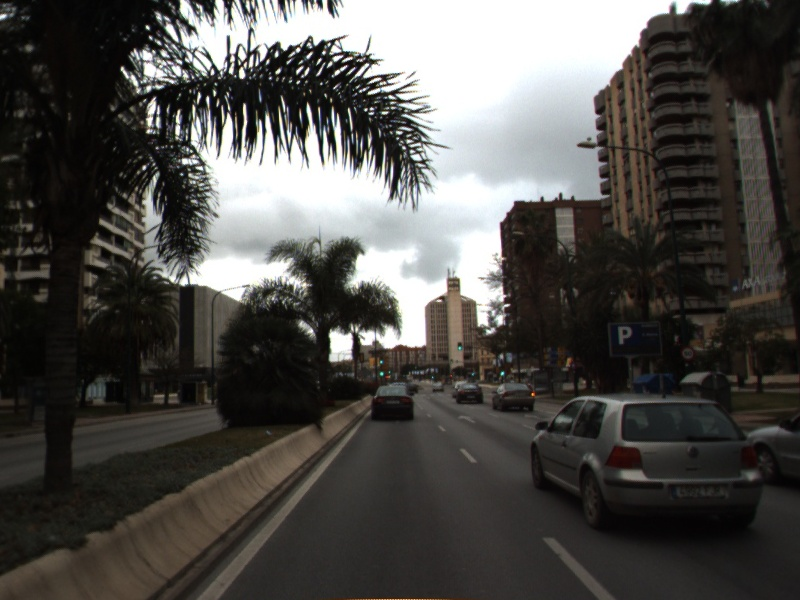STRAIGHT: (523, 412, 549, 422), (456, 413, 478, 424)
